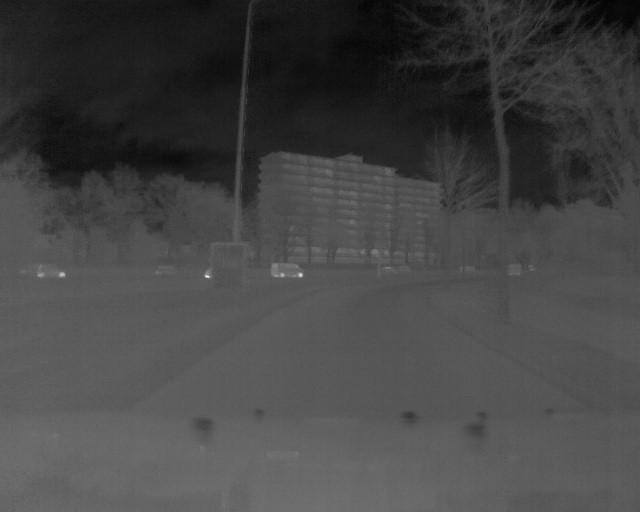car: (268, 261, 306, 279)
